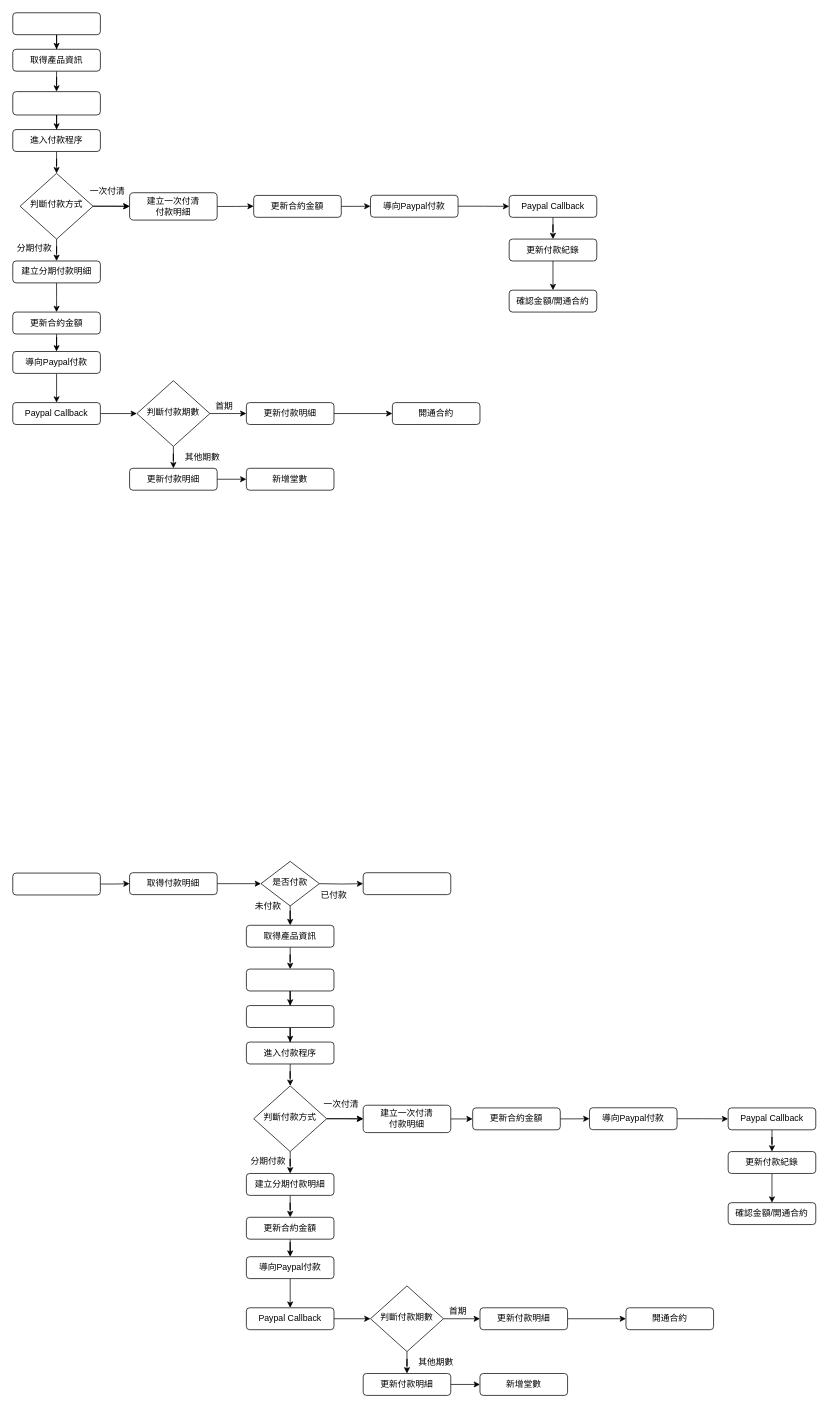
Image size: 829x1408. Some labels were removed from this diagram. The centre of each missing label's shape, as x and y in pixels:
"商品頁面購買" goes at [56,23].
"回傳各期付款紀錄" goes at [406,883].
"客戶選擇付款方式" goes at [290,1016].
"產生合約" goes at [56,103].
"產生預設 一次付清明細" goes at [290,979].
"訂單明細頁面" goes at [56,883].
